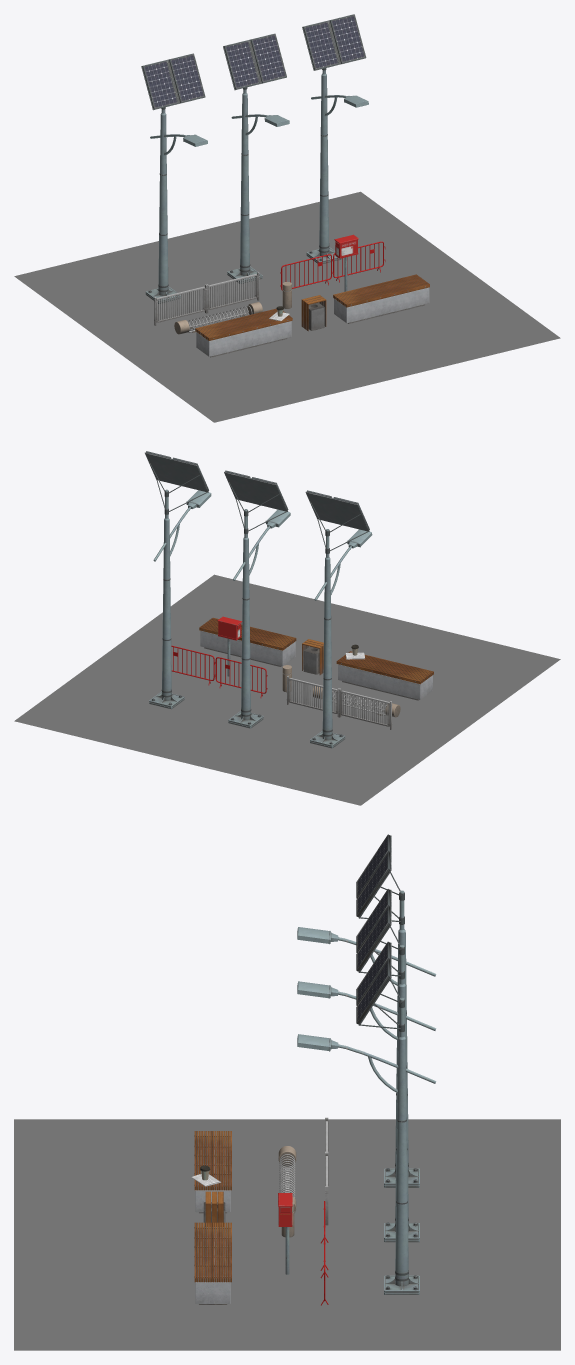
The model's file is pStreetAsset.glb.
The picture shows the model from 3 angles, top to bottom: view 1: azimuth 30°, elevation 25°; view 2: azimuth 150°, elevation 25°; view 3: azimuth 270°, elevation 25°; orthographic projection. The views are drawn at different scales.
Parts seen in each view (by area): view 1: Plane_Floor_0, Lamp_base.002_lamp_mat.001_0, bench_lp.001_bench_mat_0, Fence_lp.001_fence_mat_0, barrier_lp.001_barrier_mat_0, Bin_lp_bin_mat_0, bike_stand_lp_bikestand_mat_0, post_box_lp_postbox_mat_0; view 2: Plane_Floor_0, Lamp_base.002_lamp_mat.001_0, bench_lp.001_bench_mat_0, Fence_lp.001_fence_mat_0, barrier_lp.001_barrier_mat_0, Bin_lp_bin_mat_0, post_box_lp_postbox_mat_0, bike_stand_lp_bikestand_mat_0; view 3: Plane_Floor_0, Lamp_base.002_lamp_mat.001_0, bench_lp.001_bench_mat_0, bike_stand_lp_bikestand_mat_0, post_box_lp_postbox_mat_0, Bin_lp_bin_mat_0.
Boxes of the visible parts, x1,y1,x2,y2 form: Plane_Floor_0: [14, 191, 560, 422]; Lamp_base.002_lamp_mat.001_0: [141, 14, 368, 303]; bench_lp.001_bench_mat_0: [195, 274, 429, 357]; Fence_lp.001_fence_mat_0: [154, 272, 259, 325]; barrier_lp.001_barrier_mat_0: [280, 241, 385, 290]; Bin_lp_bin_mat_0: [301, 295, 326, 331]; bike_stand_lp_bikestand_mat_0: [174, 302, 262, 334]; post_box_lp_postbox_mat_0: [334, 234, 358, 291]; Plane_Floor_0: [14, 574, 560, 805]; Lamp_base.002_lamp_mat.001_0: [145, 451, 372, 748]; bench_lp.001_bench_mat_0: [199, 617, 433, 700]; Fence_lp.001_fence_mat_0: [286, 676, 392, 729]; barrier_lp.001_barrier_mat_0: [171, 645, 267, 697]; Bin_lp_bin_mat_0: [302, 639, 323, 674]; post_box_lp_postbox_mat_0: [217, 616, 242, 676]; bike_stand_lp_bikestand_mat_0: [313, 686, 400, 717]; Plane_Floor_0: [14, 1119, 560, 1350]; Lamp_base.002_lamp_mat.001_0: [297, 834, 436, 1294]; bench_lp.001_bench_mat_0: [194, 1131, 231, 1304]; bike_stand_lp_bikestand_mat_0: [278, 1146, 296, 1212]; post_box_lp_postbox_mat_0: [278, 1193, 292, 1274]; Bin_lp_bin_mat_0: [203, 1191, 225, 1226].
Bounding box in the file's own units: 2.2 × 1.46 × 2.2.
Materials: 11 (10 with a texture image).
